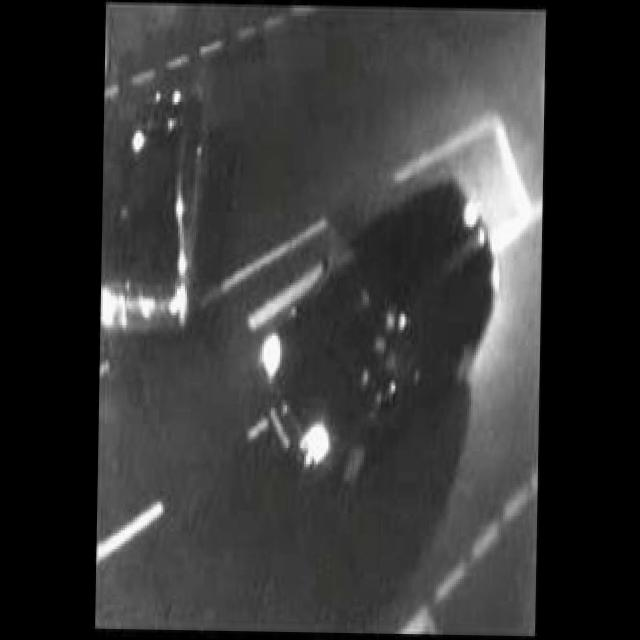car: (247, 179, 500, 492), (90, 80, 224, 348)
